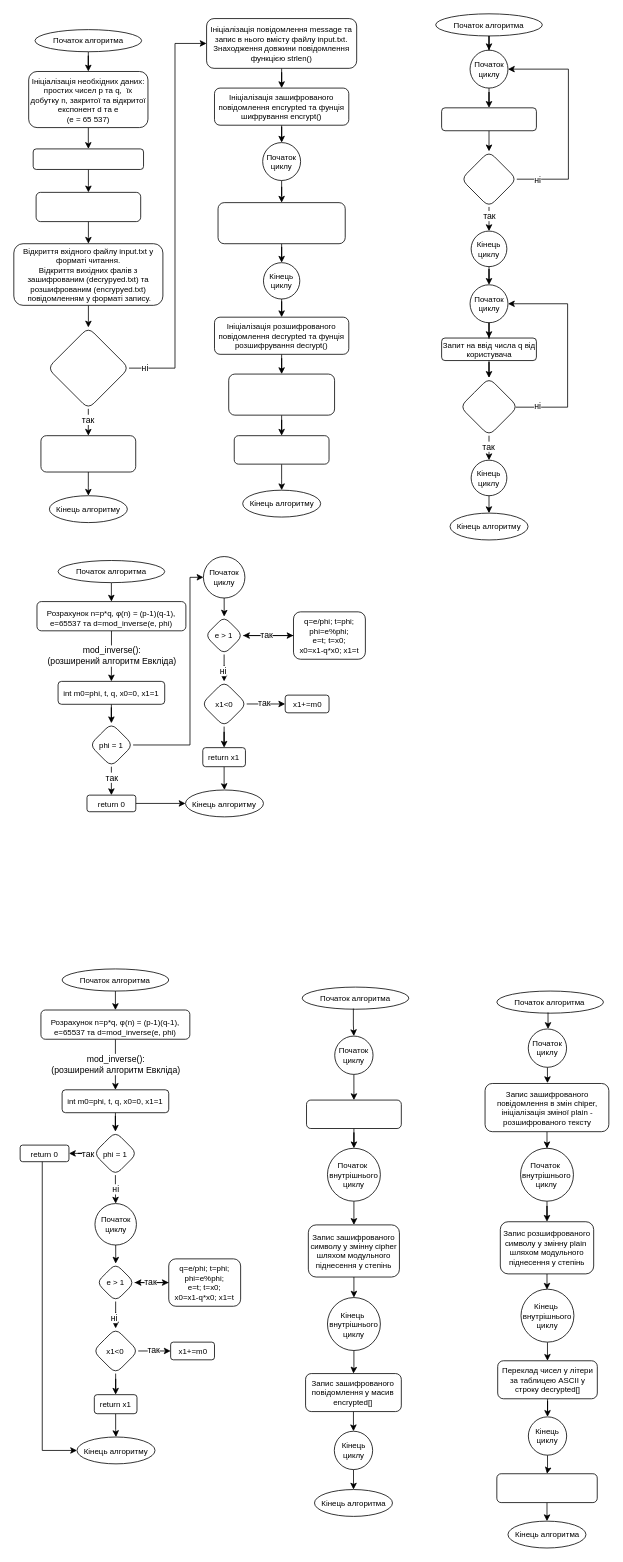
Some shapes in this 623 by 1562 pixel diagram are drawn without their labels. Each missing label, with the box of its shape:
Вставка "/0" для позначення кінця строки: (496, 1473, 597, 1503)
Друкування помилки при видкритті файлів: (40, 435, 136, 472)
Закриття всіх файлів фінкцією fclose(): (233, 435, 329, 464)
Запис зашифрованого повідомлення (у вигляді чисел) у вихідний файл encrypted.txt: (217, 202, 345, 244)
Запис розшифрованого повідомлення у вихідний файл decrypted.txt: (228, 373, 335, 415)
Запит на ввід числа p від користувача: (441, 107, 536, 131)
Переклад літер у числа за таблицею ASCII: (306, 1099, 401, 1129)
Помилка при відкритті будь-якого файлу: (47, 327, 129, 409)
Функція get_prime_values() для запиту чисел p та q: (32, 148, 144, 169)
Функція генерації ключів (e, n) (d, n) generate_keys(): (35, 192, 141, 222)
Число p є простим: (460, 150, 517, 207)
Число q є простим: (459, 377, 518, 436)
